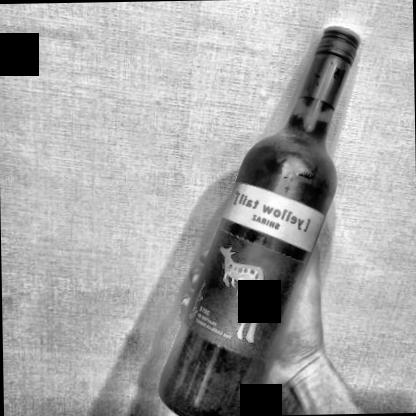yellowtail: (174, 184, 328, 368)
